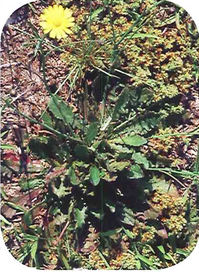dandelion: (40, 5, 78, 37)
